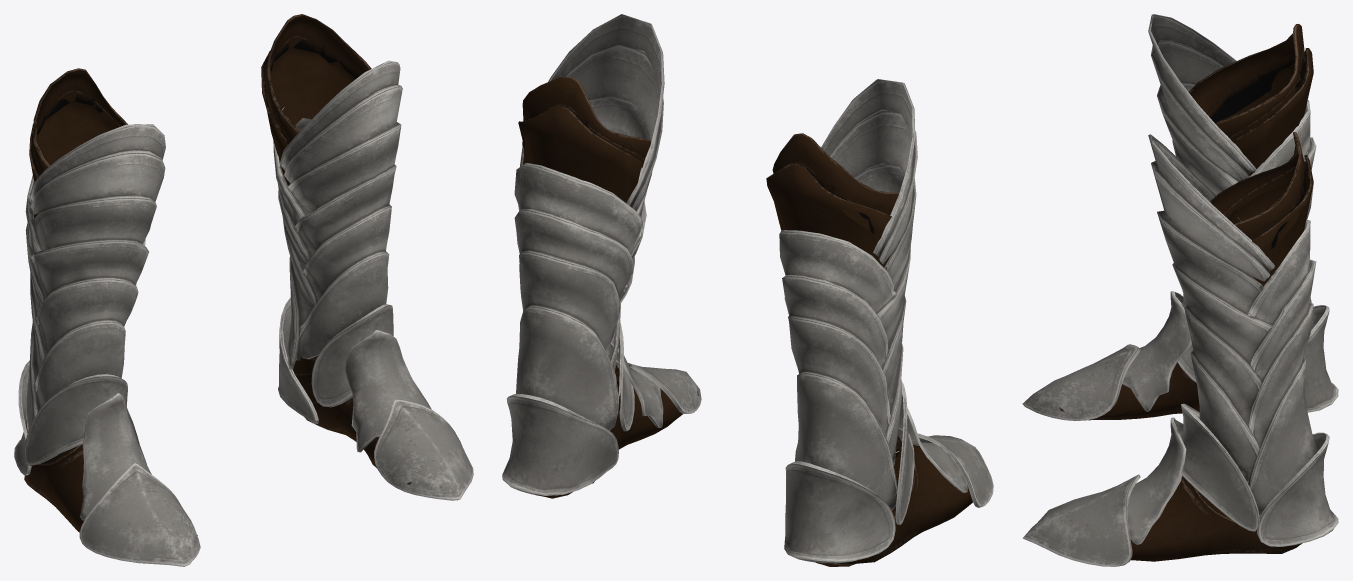
File: rivendell_boots_greaves4_silver.fbx
3 views of the same model, side by side, from view 1: azimuth 30°, elevation 25°; view 2: azimuth 150°, elevation 25°; view 3: azimuth 270°, elevation 25° (orthographic). The views are drawn at different scales.
Visible parts, largest first — view 1: rivendell_boots_greaves4_silver.1, rivendell_boots_greaves4_silver.0; view 2: rivendell_boots_greaves4_silver.1, rivendell_boots_greaves4_silver.0; view 3: rivendell_boots_greaves4_silver.1, rivendell_boots_greaves4_silver.0.
Part boxes in pixels (x1,y1,x2,y2): rivendell_boots_greaves4_silver.1: (14, 60, 473, 566); rivendell_boots_greaves4_silver.0: (24, 14, 412, 535); rivendell_boots_greaves4_silver.1: (502, 14, 993, 563); rivendell_boots_greaves4_silver.0: (518, 77, 972, 566); rivendell_boots_greaves4_silver.1: (1022, 14, 1338, 566); rivendell_boots_greaves4_silver.0: (1059, 24, 1313, 561).
Bounding box in the file's own units: 0.4693 × 0.3378 × 0.4708.
Materials: 2 (2 with a texture image).
